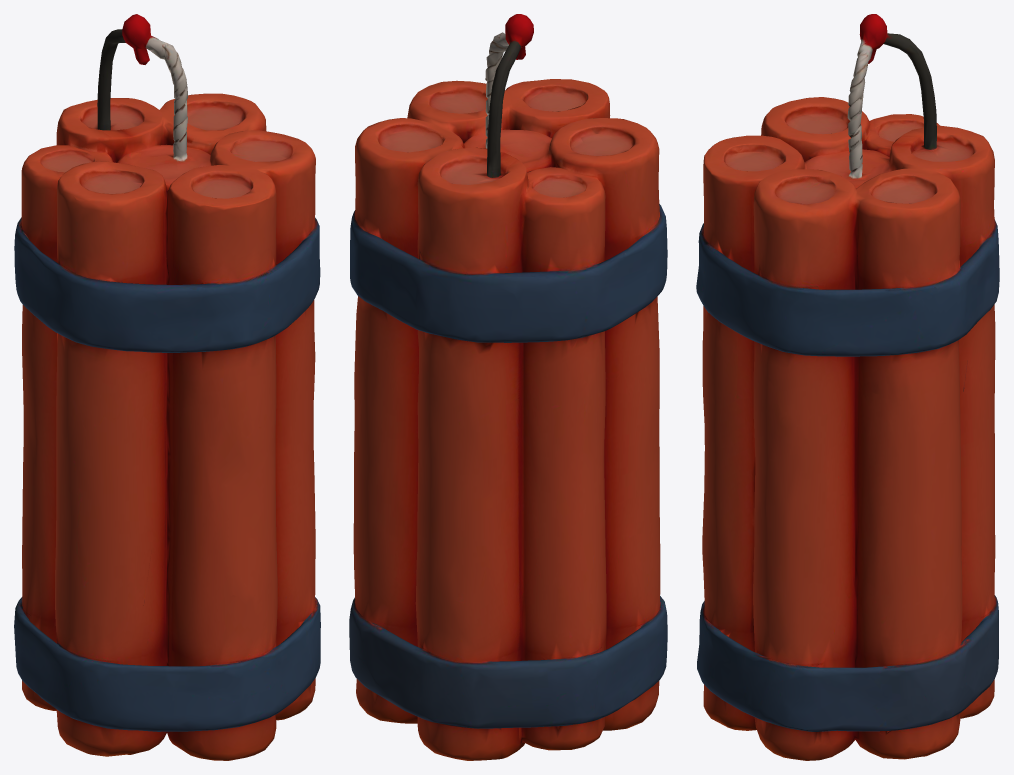
The model's file is bomb.glb.
The picture shows the model from 3 angles, left to right: view 1: azimuth 30°, elevation 25°; view 2: azimuth 150°, elevation 25°; view 3: azimuth 270°, elevation 25°; orthographic projection. The views are drawn at different scales.
Parts seen in each view (by area): view 1: tripo_node_e26bf50b-33cc-4d1b-8a68-49560e2d79bd; view 2: tripo_node_e26bf50b-33cc-4d1b-8a68-49560e2d79bd; view 3: tripo_node_e26bf50b-33cc-4d1b-8a68-49560e2d79bd.
Boxes of the visible parts, box(x1,y1,x2,y2) form: tripo_node_e26bf50b-33cc-4d1b-8a68-49560e2d79bd: box(14, 14, 320, 760); tripo_node_e26bf50b-33cc-4d1b-8a68-49560e2d79bd: box(349, 14, 667, 760); tripo_node_e26bf50b-33cc-4d1b-8a68-49560e2d79bd: box(696, 14, 999, 760).
Size of the model in its own units: 0.0971 by 0.25 by 0.1006.
1 material, 1 textured.
